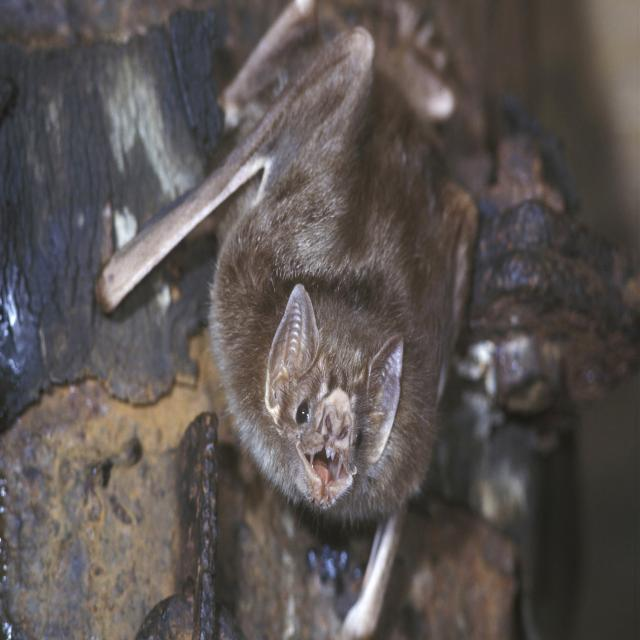bat: (96, 0, 477, 638)
